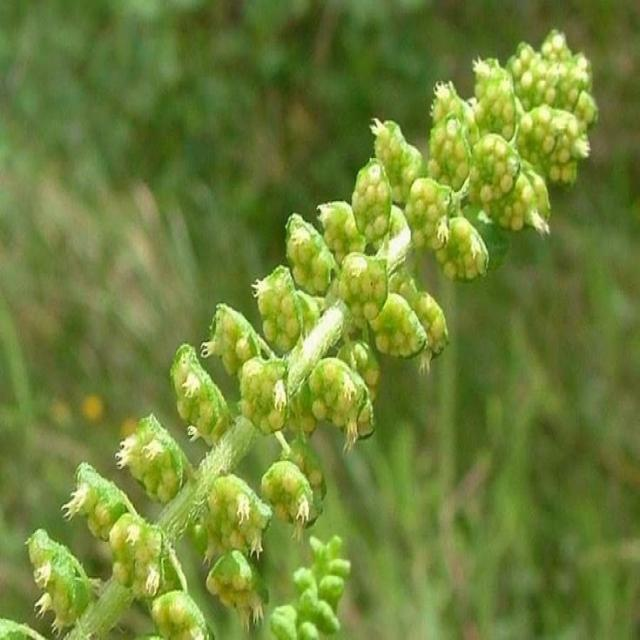ambrosia: (6, 11, 608, 620)
